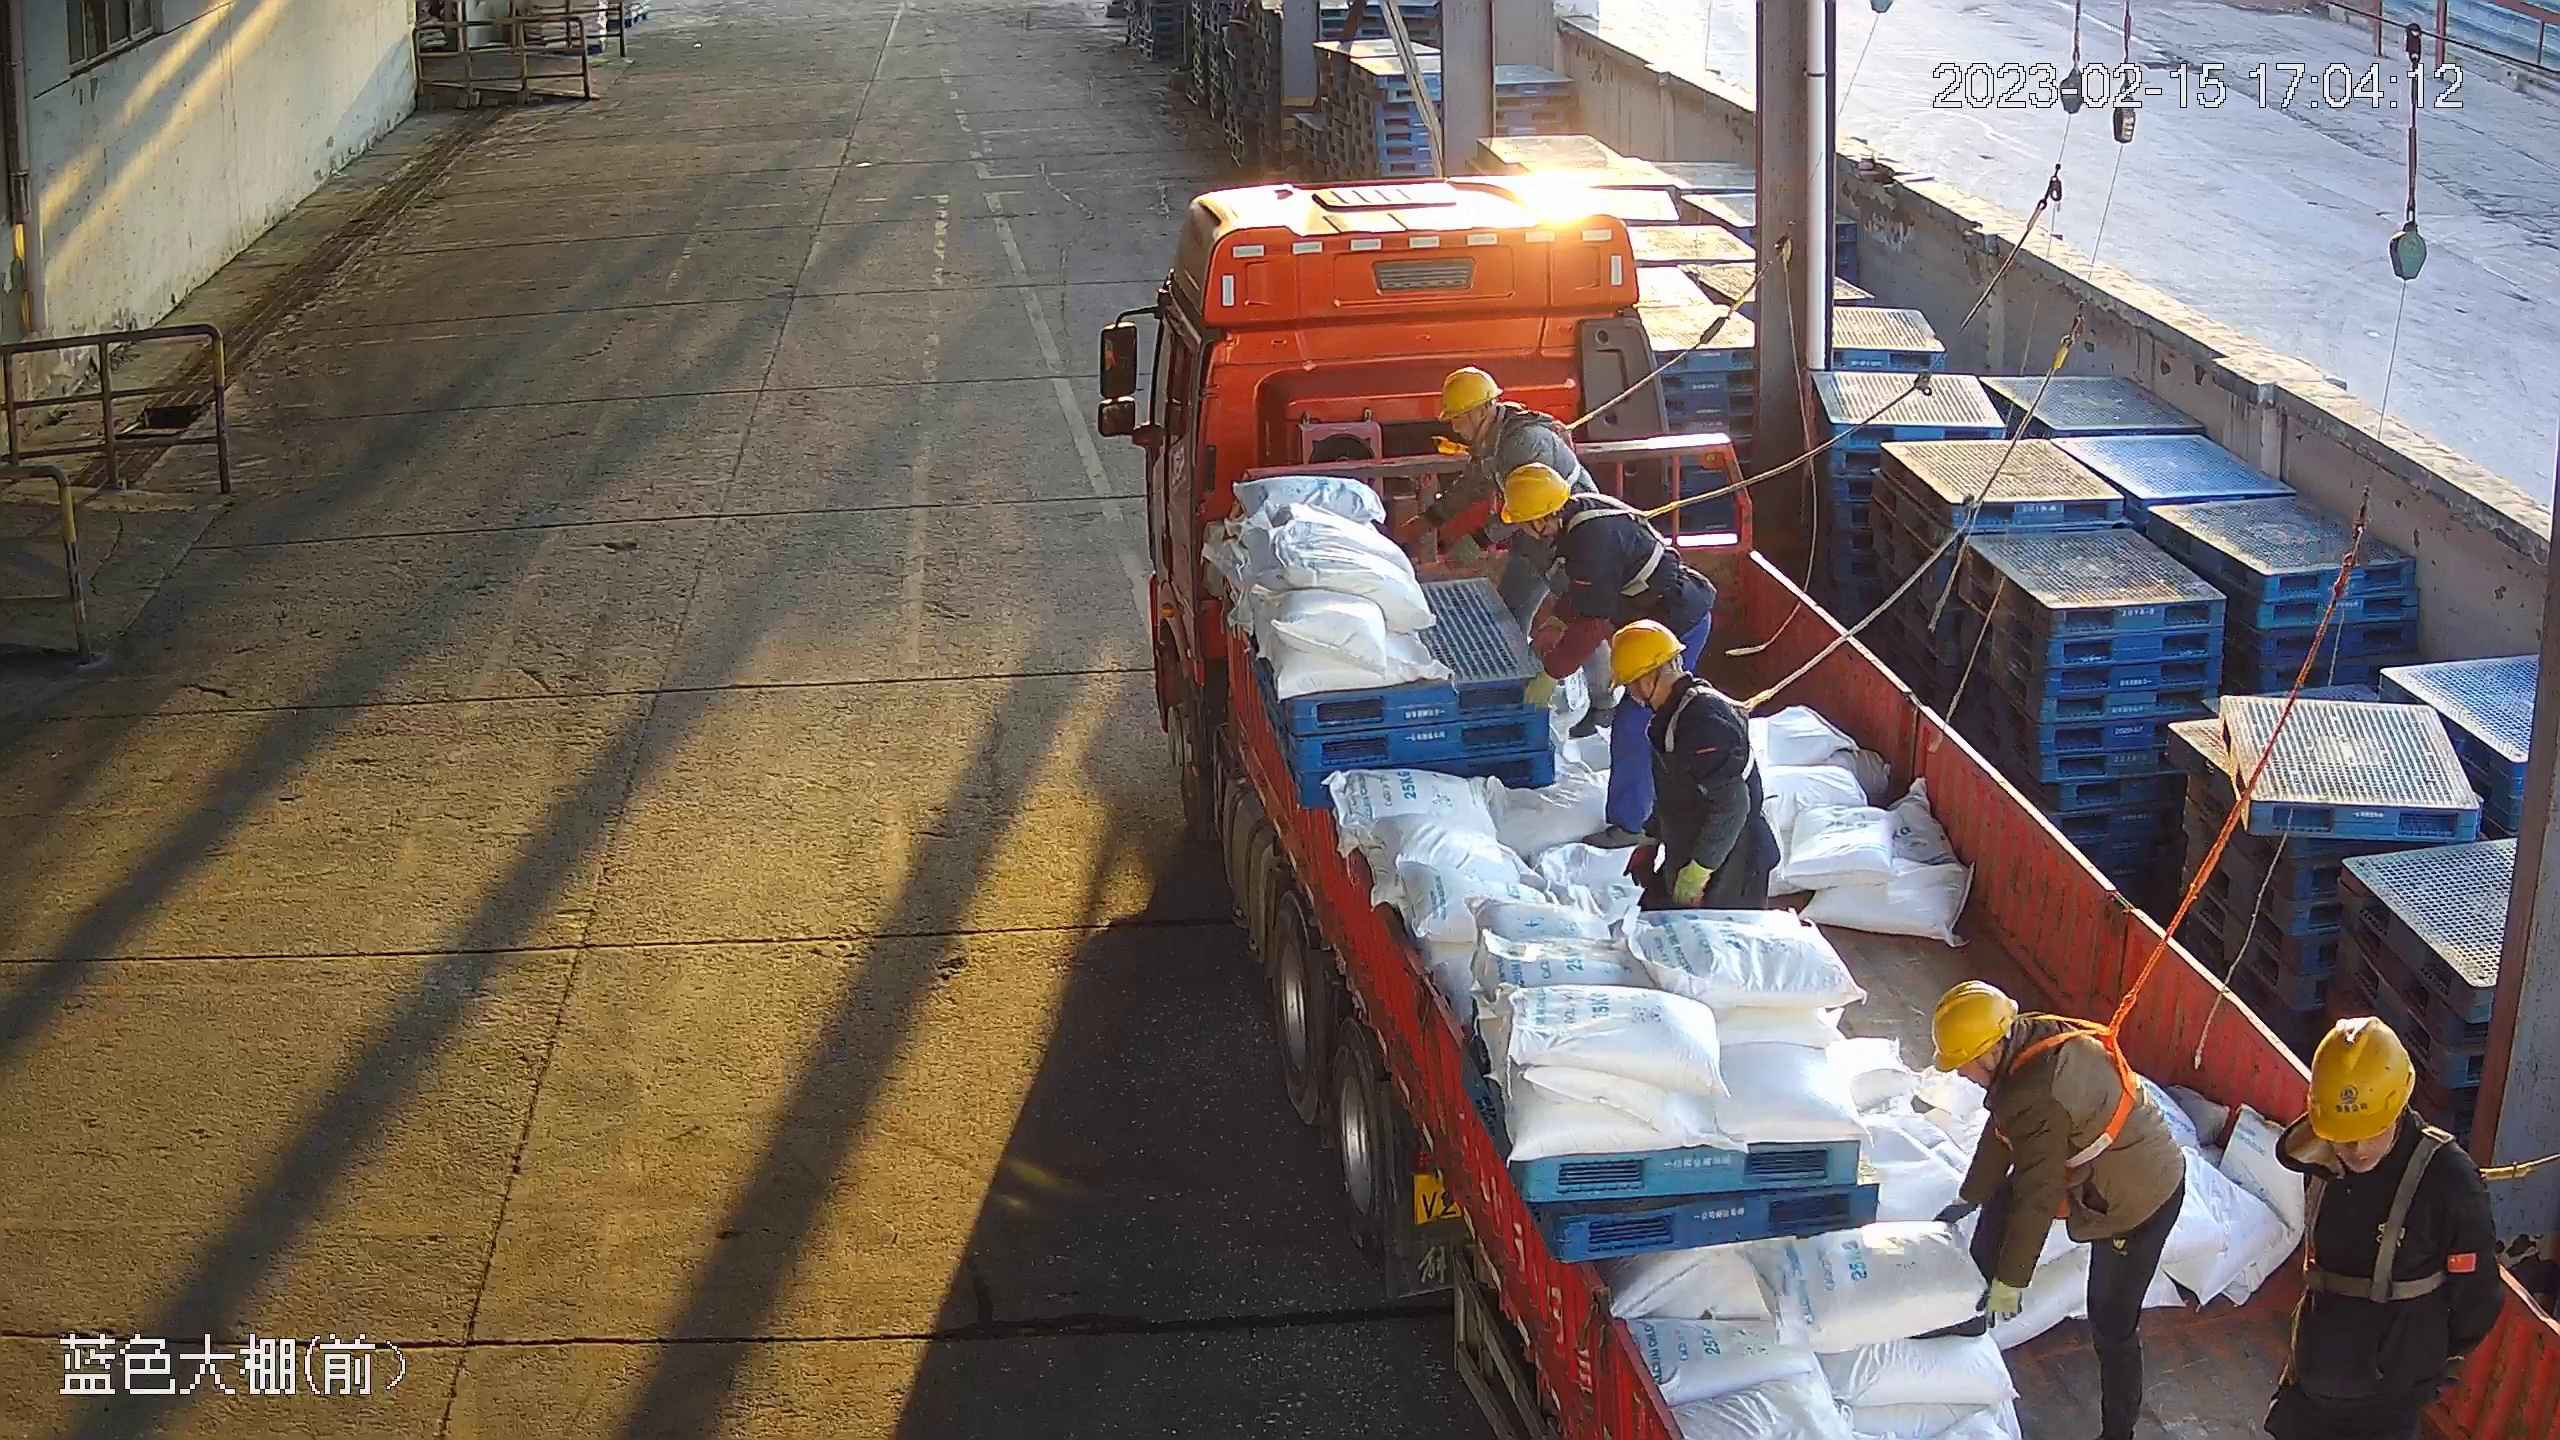belt: (2281, 1117, 2533, 1307), (1985, 1011, 2146, 1170), (1646, 673, 1777, 802), (1557, 488, 1680, 596), (1488, 408, 1593, 504)
head: (2276, 1014, 2494, 1214), (1928, 978, 2156, 1118), (1608, 616, 1752, 746), (1498, 461, 1668, 551), (1435, 360, 1558, 447)
helmet: (2306, 1014, 2417, 1144), (1932, 979, 2020, 1074), (1606, 615, 1687, 689), (1499, 461, 1569, 523), (1436, 364, 1505, 422)
people: (1930, 979, 2187, 1440), (2258, 1014, 2504, 1440), (1503, 473, 1719, 852), (1395, 365, 1603, 645), (1608, 616, 1782, 912)
truck: (1139, 172, 2560, 1440)
